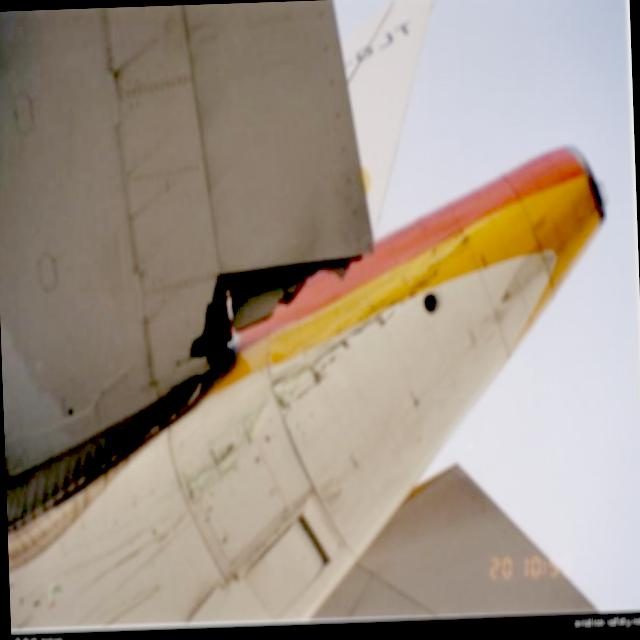crack: (168, 250, 366, 370)
